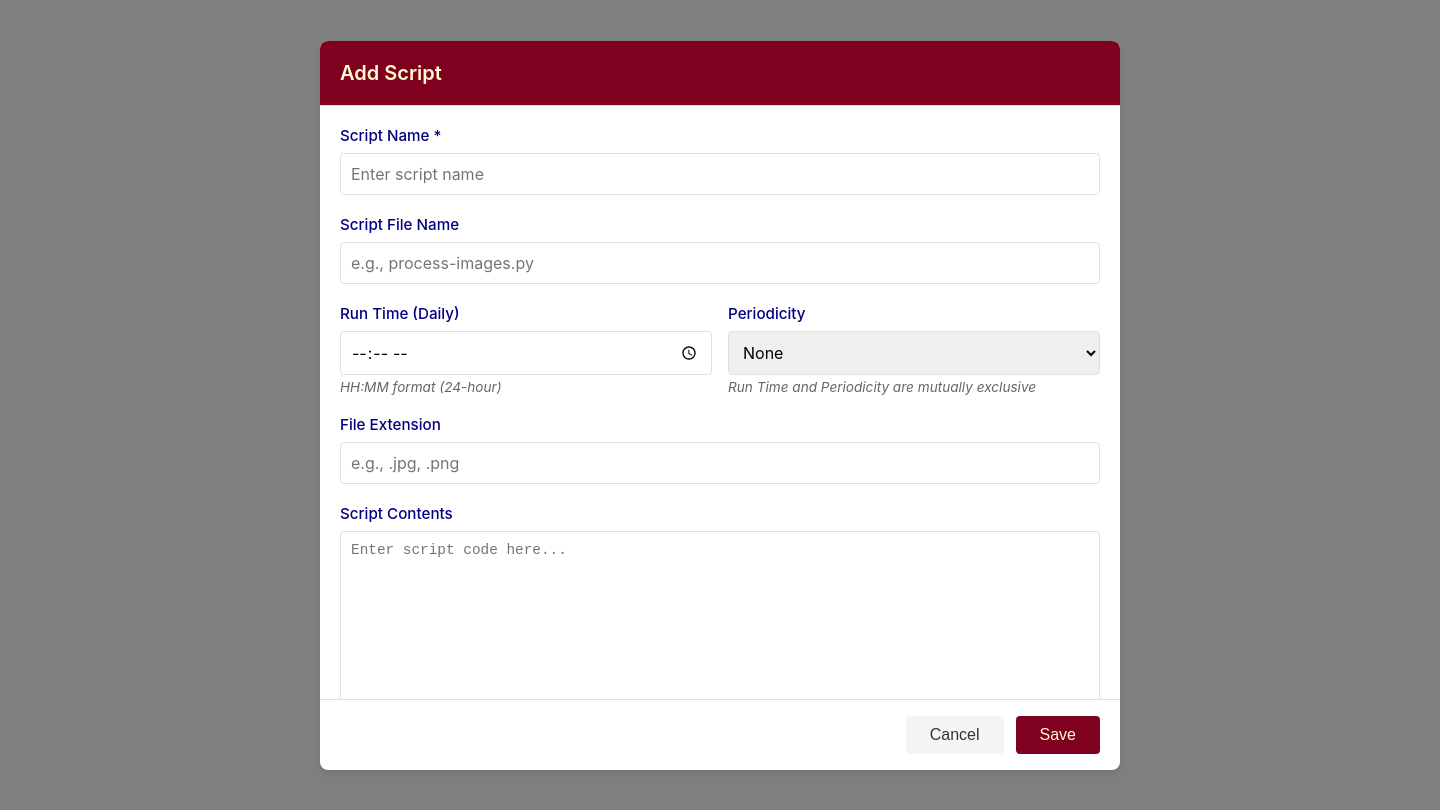
Test case: EditScriptDialog Component › displays error when save fails
This screenshot has width=1440, height=810.
Note: Fill in minimal required fields
Type "New Script" into the field labelled "Script Name *".
click(720, 174); type("New Script")  # box 340,152 -> 1100,194
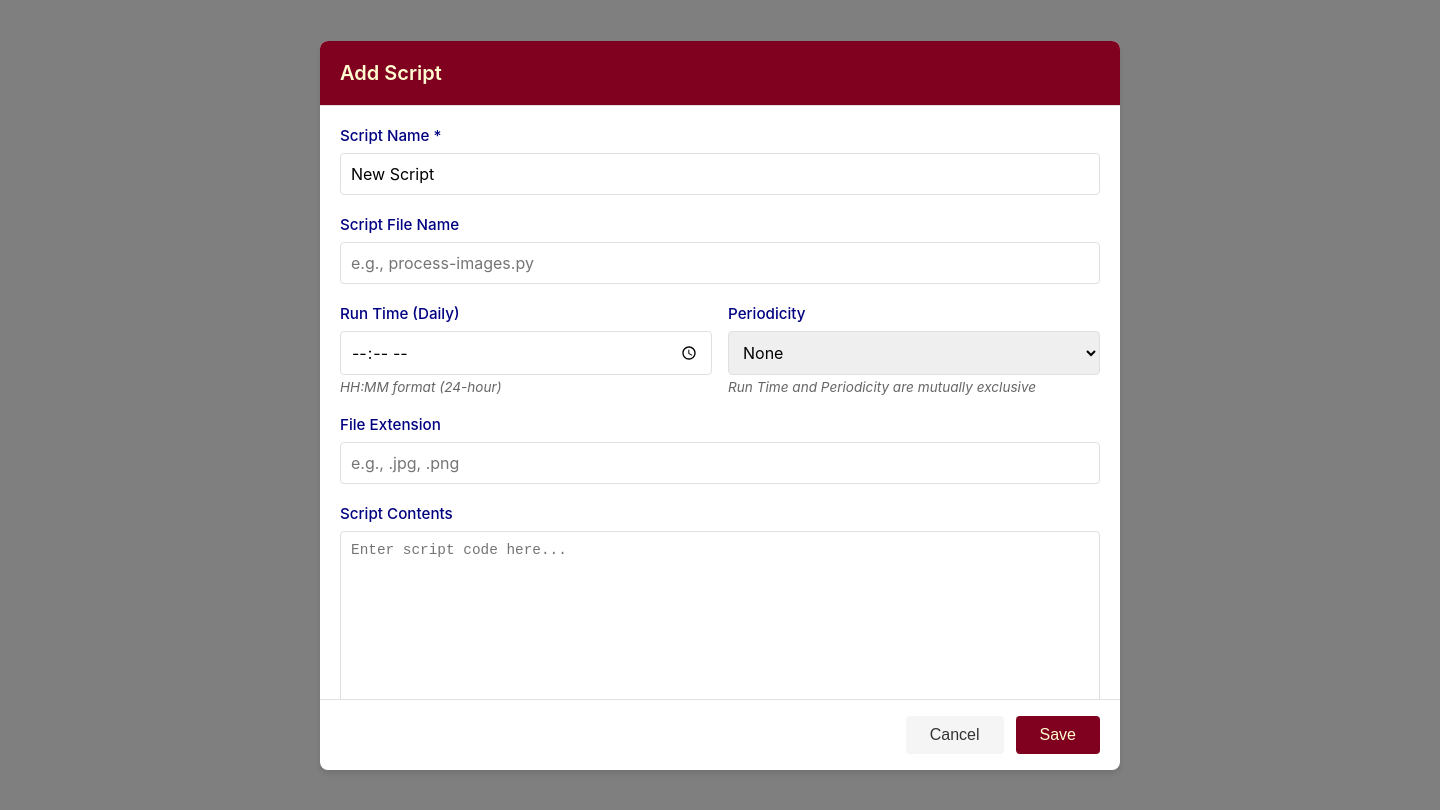
Note: Click save
Click the button with test id "save-button".
click(1058, 734)  # box 1016,716 -> 1100,754
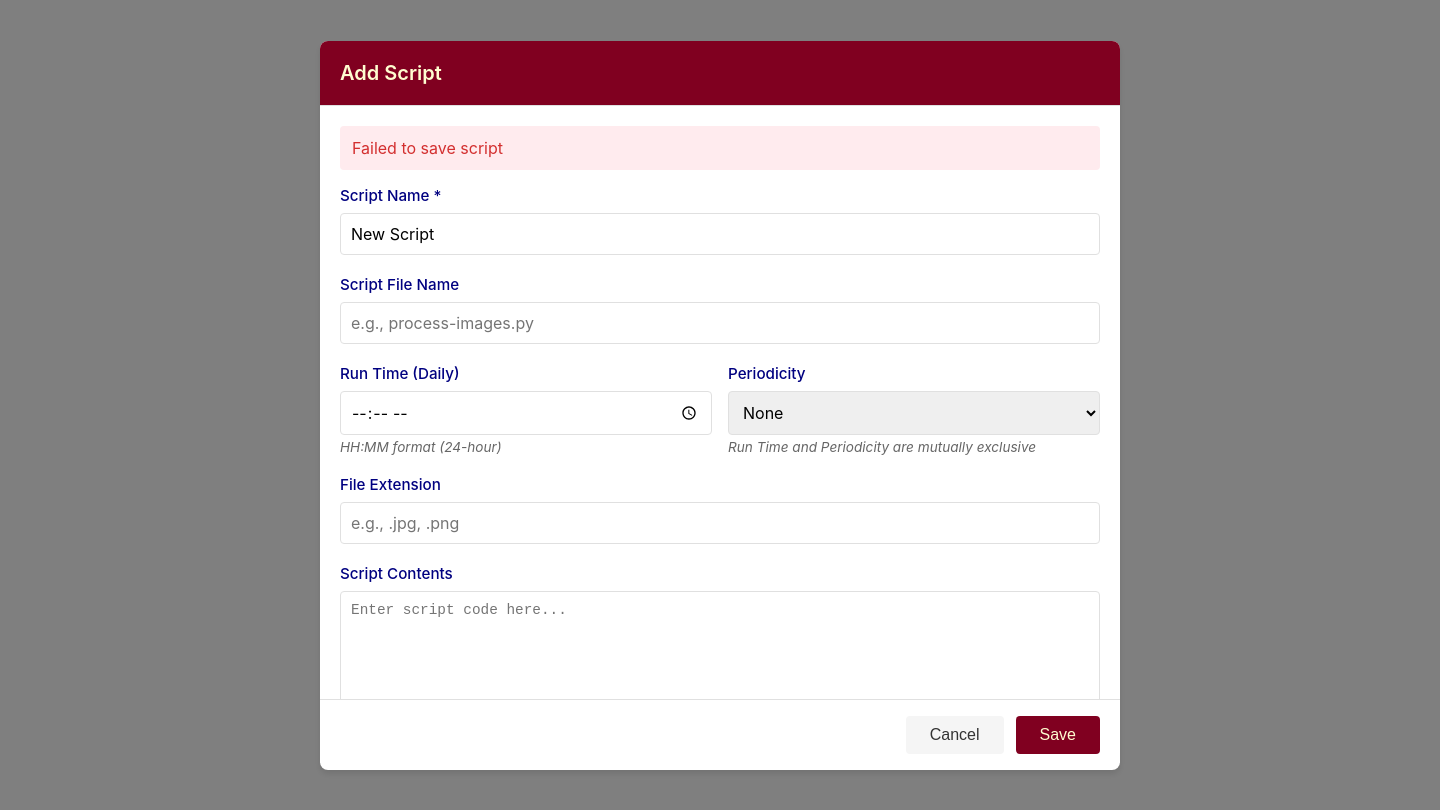
Check: the text "Failed to save script" is shown, box 340,126 -> 1100,170
